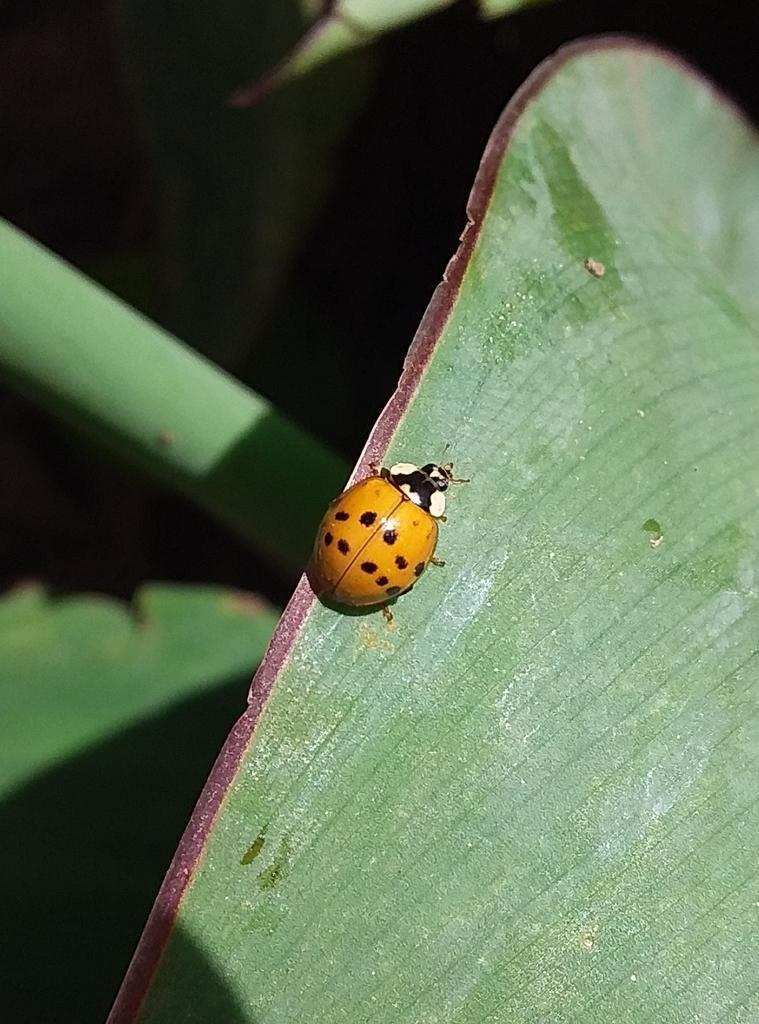ladybug: (309, 441, 476, 624)
